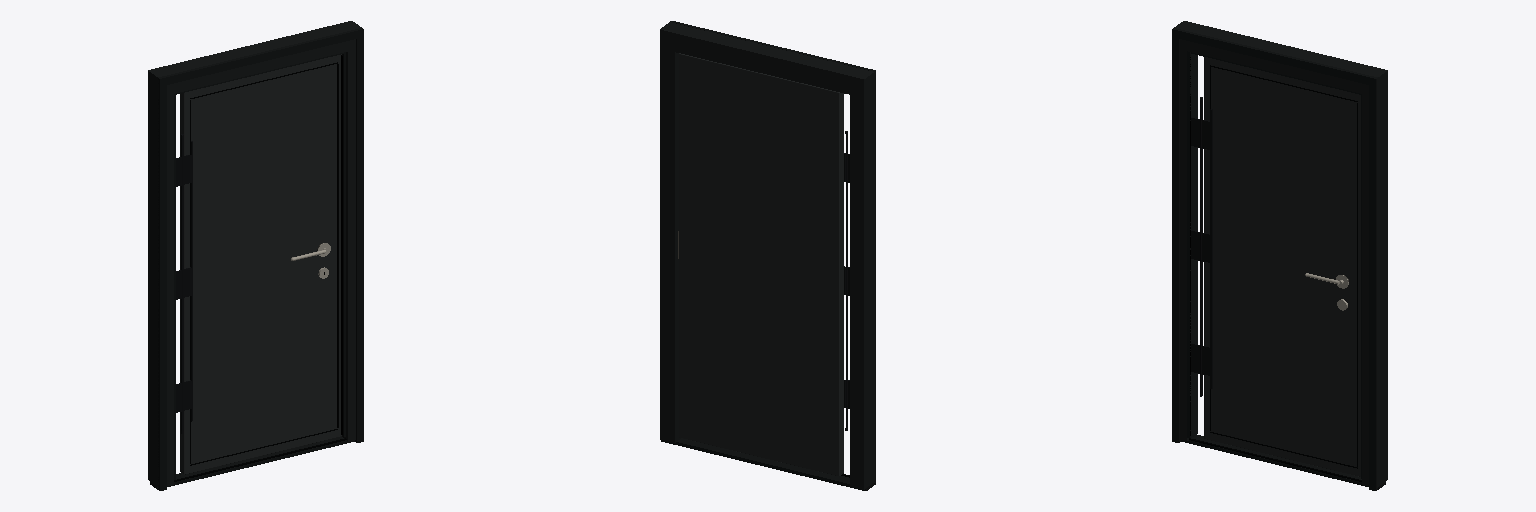
robot.urdf — single_leaf_dark_hinged_door:
<?xml version='1.0' encoding='utf-8'?>
<robot name="single_leaf_dark_hinged_door">
  <material name="matte_charcoal_slab">
    <color rgba="0.17 0.18 0.18 1" />
  </material>
  <material name="dark_charcoal_frame">
    <color rgba="0.12 0.13 0.13 1" />
  </material>
  <material name="slightly_satin_trim">
    <color rgba="0.1 0.11 0.11 1" />
  </material>
  <material name="perimeter_shadow_groove">
    <color rgba="0.035 0.038 0.04 1" />
  </material>
  <material name="dark_rubber_seal">
    <color rgba="0.012 0.012 0.012 1" />
  </material>
  <material name="dark_burnished_hinge_metal">
    <color rgba="0.09 0.095 0.1 1" />
  </material>
  <material name="brushed_stainless_soft_highlight">
    <color rgba="0.62 0.6 0.56 1" />
  </material>
  <material name="dark_brushed_stainless_shadow">
    <color rgba="0.28 0.27 0.25 1" />
  </material>
  <link name="fixed_frame">
    <visual name="left_jamb">
      <origin xyz="-0.105 0 1.1025" rpy="0 0 0" />
      <geometry>
        <box size="0.08 0.11 2.175" />
      </geometry>
      <material name="dark_charcoal_frame">
        <color rgba="0.12 0.13 0.13 1" />
      </material>
    </visual>
    <visual name="right_jamb">
      <origin xyz="0.948 0 1.1025" rpy="0 0 0" />
      <geometry>
        <box size="0.084 0.11 2.175" />
      </geometry>
      <material name="dark_charcoal_frame">
        <color rgba="0.12 0.13 0.13 1" />
      </material>
    </visual>
    <visual name="header">
      <origin xyz="0.4225 0 2.14" rpy="0 0 0" />
      <geometry>
        <box size="1.135 0.11 0.1" />
      </geometry>
      <material name="dark_charcoal_frame">
        <color rgba="0.12 0.13 0.13 1" />
      </material>
    </visual>
    <visual name="threshold">
      <origin xyz="0.4225 0 0.009" rpy="0 0 0" />
      <geometry>
        <box size="1.135 0.075 0.018" />
      </geometry>
      <material name="slightly_satin_trim">
        <color rgba="0.1 0.11 0.11 1" />
      </material>
    </visual>
    <visual name="left_casing">
      <origin xyz="-0.125 -0.052 1.095" rpy="0 0 0" />
      <geometry>
        <box size="0.04 0.018 2.19" />
      </geometry>
      <material name="slightly_satin_trim">
        <color rgba="0.1 0.11 0.11 1" />
      </material>
    </visual>
    <visual name="right_casing">
      <origin xyz="0.97 -0.052 1.095" rpy="0 0 0" />
      <geometry>
        <box size="0.04 0.018 2.19" />
      </geometry>
      <material name="slightly_satin_trim">
        <color rgba="0.1 0.11 0.11 1" />
      </material>
    </visual>
    <visual name="header_casing">
      <origin xyz="0.4225 -0.052 2.17" rpy="0 0 0" />
      <geometry>
        <box size="1.135 0.018 0.042" />
      </geometry>
      <material name="slightly_satin_trim">
        <color rgba="0.1 0.11 0.11 1" />
      </material>
    </visual>
    <visual name="right_stop">
      <origin xyz="0.899 -0.03 1.0625" rpy="0 0 0" />
      <geometry>
        <box size="0.018 0.012 2.055" />
      </geometry>
      <material name="slightly_satin_trim">
        <color rgba="0.1 0.11 0.11 1" />
      </material>
    </visual>
    <visual name="left_stop_shadow">
      <origin xyz="-0.058 -0.048 1.0625" rpy="0 0 0" />
      <geometry>
        <box size="0.014 0.008 2.055" />
      </geometry>
      <material name="slightly_satin_trim">
        <color rgba="0.1 0.11 0.11 1" />
      </material>
    </visual>
    <visual name="top_stop">
      <origin xyz="0.4205 -0.03 2.082" rpy="0 0 0" />
      <geometry>
        <box size="0.971 0.012 0.018" />
      </geometry>
      <material name="slightly_satin_trim">
        <color rgba="0.1 0.11 0.11 1" />
      </material>
    </visual>
    <visual name="right_seal">
      <origin xyz="0.888 -0.0248 1.0525" rpy="0 0 0" />
      <geometry>
        <box size="0.006 0.003 2.015" />
      </geometry>
      <material name="dark_rubber_seal">
        <color rgba="0.012 0.012 0.012 1" />
      </material>
    </visual>
    <visual name="left_seal">
      <origin xyz="-0.054 -0.0455 1.0525" rpy="0 0 0" />
      <geometry>
        <box size="0.006 0.003 2.015" />
      </geometry>
      <material name="dark_rubber_seal">
        <color rgba="0.012 0.012 0.012 1" />
      </material>
    </visual>
    <visual name="top_seal">
      <origin xyz="0.4205 -0.0248 2.0755" rpy="0 0 0" />
      <geometry>
        <box size="0.931 0.003 0.005" />
      </geometry>
      <material name="dark_rubber_seal">
        <color rgba="0.012 0.012 0.012 1" />
      </material>
    </visual>
    <visual name="sill_shadow_line">
      <origin xyz="0.4205 -0.032 0.021" rpy="0 0 0" />
      <geometry>
        <box size="0.971 0.01 0.006" />
      </geometry>
      <material name="perimeter_shadow_groove">
        <color rgba="0.035 0.038 0.04 1" />
      </material>
    </visual>
    <collision name="left_jamb">
      <origin xyz="-0.105 0 1.1025" rpy="0 0 0" />
      <geometry>
        <box size="0.08 0.11 2.175" />
      </geometry>
    </collision>
    <collision name="right_jamb">
      <origin xyz="0.948 0 1.1025" rpy="0 0 0" />
      <geometry>
        <box size="0.084 0.11 2.175" />
      </geometry>
    </collision>
    <collision name="header">
      <origin xyz="0.4225 0 2.14" rpy="0 0 0" />
      <geometry>
        <box size="1.135 0.11 0.1" />
      </geometry>
    </collision>
    <collision name="threshold">
      <origin xyz="0.4225 0 0.009" rpy="0 0 0" />
      <geometry>
        <box size="1.135 0.075 0.018" />
      </geometry>
    </collision>
    <collision name="left_casing">
      <origin xyz="-0.125 -0.052 1.095" rpy="0 0 0" />
      <geometry>
        <box size="0.04 0.018 2.19" />
      </geometry>
    </collision>
    <collision name="right_casing">
      <origin xyz="0.97 -0.052 1.095" rpy="0 0 0" />
      <geometry>
        <box size="0.04 0.018 2.19" />
      </geometry>
    </collision>
    <collision name="header_casing">
      <origin xyz="0.4225 -0.052 2.17" rpy="0 0 0" />
      <geometry>
        <box size="1.135 0.018 0.042" />
      </geometry>
    </collision>
    <collision name="right_stop">
      <origin xyz="0.899 -0.03 1.0625" rpy="0 0 0" />
      <geometry>
        <box size="0.018 0.012 2.055" />
      </geometry>
    </collision>
    <collision name="left_stop_shadow">
      <origin xyz="-0.058 -0.048 1.0625" rpy="0 0 0" />
      <geometry>
        <box size="0.014 0.008 2.055" />
      </geometry>
    </collision>
    <collision name="top_stop">
      <origin xyz="0.4205 -0.03 2.082" rpy="0 0 0" />
      <geometry>
        <box size="0.971 0.012 0.018" />
      </geometry>
    </collision>
    <collision name="right_seal">
      <origin xyz="0.888 -0.0248 1.0525" rpy="0 0 0" />
      <geometry>
        <box size="0.006 0.003 2.015" />
      </geometry>
    </collision>
    <collision name="left_seal">
      <origin xyz="-0.054 -0.0455 1.0525" rpy="0 0 0" />
      <geometry>
        <box size="0.006 0.003 2.015" />
      </geometry>
    </collision>
    <collision name="top_seal">
      <origin xyz="0.4205 -0.0248 2.0755" rpy="0 0 0" />
      <geometry>
        <box size="0.931 0.003 0.005" />
      </geometry>
    </collision>
    <collision name="sill_shadow_line">
      <origin xyz="0.4205 -0.032 0.021" rpy="0 0 0" />
      <geometry>
        <box size="0.971 0.01 0.006" />
      </geometry>
    </collision>
  </link>
  <link name="door_panel">
    <visual name="door_slab">
      <geometry>
        <mesh filename="assets/meshes/door_panel_beveled_slab.obj" />
      </geometry>
      <material name="matte_charcoal_slab">
        <color rgba="0.17 0.18 0.18 1" />
      </material>
    </visual>
    <visual name="perimeter_groove_left">
      <origin xyz="0.047 0.0049 1.0525" rpy="0 0 0" />
      <geometry>
        <box size="0.006 0.0012 1.93" />
      </geometry>
      <material name="perimeter_shadow_groove">
        <color rgba="0.035 0.038 0.04 1" />
      </material>
    </visual>
    <visual name="perimeter_groove_right">
      <origin xyz="0.867 0.0049 1.0525" rpy="0 0 0" />
      <geometry>
        <box size="0.006 0.0012 1.93" />
      </geometry>
      <material name="perimeter_shadow_groove">
        <color rgba="0.035 0.038 0.04 1" />
      </material>
    </visual>
    <visual name="perimeter_groove_top">
      <origin xyz="0.457 0.0049 2.025" rpy="0 0 0" />
      <geometry>
        <box size="0.82 0.0012 0.006" />
      </geometry>
      <material name="perimeter_shadow_groove">
        <color rgba="0.035 0.038 0.04 1" />
      </material>
    </visual>
    <visual name="perimeter_groove_bottom">
      <origin xyz="0.457 0.0049 0.08" rpy="0 0 0" />
      <geometry>
        <box size="0.82 0.0012 0.006" />
      </geometry>
      <material name="perimeter_shadow_groove">
        <color rgba="0.035 0.038 0.04 1" />
      </material>
    </visual>
    <collision name="door_slab">
      <geometry>
        <mesh filename="assets/meshes/door_panel_beveled_slab.obj" />
      </geometry>
    </collision>
    <collision name="perimeter_groove_left">
      <origin xyz="0.047 0.0049 1.0525" rpy="0 0 0" />
      <geometry>
        <box size="0.006 0.0012 1.93" />
      </geometry>
    </collision>
    <collision name="perimeter_groove_right">
      <origin xyz="0.867 0.0049 1.0525" rpy="0 0 0" />
      <geometry>
        <box size="0.006 0.0012 1.93" />
      </geometry>
    </collision>
    <collision name="perimeter_groove_top">
      <origin xyz="0.457 0.0049 2.025" rpy="0 0 0" />
      <geometry>
        <box size="0.82 0.0012 0.006" />
      </geometry>
    </collision>
    <collision name="perimeter_groove_bottom">
      <origin xyz="0.457 0.0049 0.08" rpy="0 0 0" />
      <geometry>
        <box size="0.82 0.0012 0.006" />
      </geometry>
    </collision>
  </link>
  <link name="hinge_leaf_frame">
    <visual name="frame_leaf_spine">
      <origin xyz="-0.0625 -0.028 1.055" rpy="0 0 0" />
      <geometry>
        <box size="0.005 0.006 1.485" />
      </geometry>
      <material name="dark_burnished_hinge_metal">
        <color rgba="0.09 0.095 0.1 1" />
      </material>
    </visual>
    <visual name="frame_leaf_0">
      <origin xyz="-0.0355 -0.028 0.455" rpy="0 0 0" />
      <geometry>
        <box size="0.059 0.006 0.15" />
      </geometry>
      <material name="dark_burnished_hinge_metal">
        <color rgba="0.09 0.095 0.1 1" />
      </material>
    </visual>
    <visual name="frame_leaf_1">
      <origin xyz="-0.0355 -0.028 1.055" rpy="0 0 0" />
      <geometry>
        <box size="0.059 0.006 0.15" />
      </geometry>
      <material name="dark_burnished_hinge_metal">
        <color rgba="0.09 0.095 0.1 1" />
      </material>
    </visual>
    <visual name="frame_leaf_2">
      <origin xyz="-0.0355 -0.028 1.655" rpy="0 0 0" />
      <geometry>
        <box size="0.059 0.006 0.15" />
      </geometry>
      <material name="dark_burnished_hinge_metal">
        <color rgba="0.09 0.095 0.1 1" />
      </material>
    </visual>
    <collision name="frame_leaf_spine">
      <origin xyz="-0.0625 -0.028 1.055" rpy="0 0 0" />
      <geometry>
        <box size="0.005 0.006 1.485" />
      </geometry>
    </collision>
    <collision name="frame_leaf_0">
      <origin xyz="-0.0355 -0.028 0.455" rpy="0 0 0" />
      <geometry>
        <box size="0.059 0.006 0.15" />
      </geometry>
    </collision>
    <collision name="frame_leaf_1">
      <origin xyz="-0.0355 -0.028 1.055" rpy="0 0 0" />
      <geometry>
        <box size="0.059 0.006 0.15" />
      </geometry>
    </collision>
    <collision name="frame_leaf_2">
      <origin xyz="-0.0355 -0.028 1.655" rpy="0 0 0" />
      <geometry>
        <box size="0.059 0.006 0.15" />
      </geometry>
    </collision>
  </link>
  <link name="hinge_leaf_panel">
    <visual name="panel_leaf_spine">
      <origin xyz="0.055 0.00275 1.055" rpy="0 0 0" />
      <geometry>
        <box size="0.01 0.0055 1.485" />
      </geometry>
      <material name="dark_burnished_hinge_metal">
        <color rgba="0.09 0.095 0.1 1" />
      </material>
    </visual>
    <visual name="panel_leaf_0">
      <origin xyz="0.033 0.00275 0.455" rpy="0 0 0" />
      <geometry>
        <box size="0.054 0.0055 0.15" />
      </geometry>
      <material name="dark_burnished_hinge_metal">
        <color rgba="0.09 0.095 0.1 1" />
      </material>
    </visual>
    <visual name="panel_leaf_1">
      <origin xyz="0.033 0.00275 1.055" rpy="0 0 0" />
      <geometry>
        <box size="0.054 0.0055 0.15" />
      </geometry>
      <material name="dark_burnished_hinge_metal">
        <color rgba="0.09 0.095 0.1 1" />
      </material>
    </visual>
    <visual name="panel_leaf_2">
      <origin xyz="0.033 0.00275 1.655" rpy="0 0 0" />
      <geometry>
        <box size="0.054 0.0055 0.15" />
      </geometry>
      <material name="dark_burnished_hinge_metal">
        <color rgba="0.09 0.095 0.1 1" />
      </material>
    </visual>
    <collision name="panel_leaf_spine">
      <origin xyz="0.055 0.00275 1.055" rpy="0 0 0" />
      <geometry>
        <box size="0.01 0.0055 1.485" />
      </geometry>
    </collision>
    <collision name="panel_leaf_0">
      <origin xyz="0.033 0.00275 0.455" rpy="0 0 0" />
      <geometry>
        <box size="0.054 0.0055 0.15" />
      </geometry>
    </collision>
    <collision name="panel_leaf_1">
      <origin xyz="0.033 0.00275 1.055" rpy="0 0 0" />
      <geometry>
        <box size="0.054 0.0055 0.15" />
      </geometry>
    </collision>
    <collision name="panel_leaf_2">
      <origin xyz="0.033 0.00275 1.655" rpy="0 0 0" />
      <geometry>
        <box size="0.054 0.0055 0.15" />
      </geometry>
    </collision>
  </link>
  <link name="hinge_pin">
    <visual name="hinge_pin_rod">
      <origin xyz="0 -0.028 1.055" rpy="0 0 0" />
      <geometry>
        <cylinder radius="0.006" length="1.57" />
      </geometry>
      <material name="dark_burnished_hinge_metal">
        <color rgba="0.09 0.095 0.1 1" />
      </material>
    </visual>
    <visual name="hinge_pin_lower_cap">
      <origin xyz="0 -0.028 0.27" rpy="0 0 0" />
      <geometry>
        <cylinder radius="0.0075" length="0.014" />
      </geometry>
      <material name="dark_burnished_hinge_metal">
        <color rgba="0.09 0.095 0.1 1" />
      </material>
    </visual>
    <visual name="hinge_pin_upper_cap">
      <origin xyz="0 -0.028 1.84" rpy="0 0 0" />
      <geometry>
        <cylinder radius="0.0075" length="0.014" />
      </geometry>
      <material name="dark_burnished_hinge_metal">
        <color rgba="0.09 0.095 0.1 1" />
      </material>
    </visual>
    <collision name="hinge_pin_rod">
      <origin xyz="0 -0.028 1.055" rpy="0 0 0" />
      <geometry>
        <cylinder radius="0.006" length="1.57" />
      </geometry>
    </collision>
    <collision name="hinge_pin_lower_cap">
      <origin xyz="0 -0.028 0.27" rpy="0 0 0" />
      <geometry>
        <cylinder radius="0.0075" length="0.014" />
      </geometry>
    </collision>
    <collision name="hinge_pin_upper_cap">
      <origin xyz="0 -0.028 1.84" rpy="0 0 0" />
      <geometry>
        <cylinder radius="0.0075" length="0.014" />
      </geometry>
    </collision>
  </link>
  <link name="handle_back_plate">
    <visual name="rosette_disk">
      <origin xyz="0 0.0005 0" rpy="1.5708 0 0" />
      <geometry>
        <cylinder radius="0.033" length="0.01" />
      </geometry>
      <material name="dark_brushed_stainless_shadow">
        <color rgba="0.28 0.27 0.25 1" />
      </material>
    </visual>
    <visual name="rosette_outer_lip">
      <origin xyz="0 -0.0055 0" rpy="1.5708 0 0" />
      <geometry>
        <cylinder radius="0.036" length="0.002" />
      </geometry>
      <material name="brushed_stainless_soft_highlight">
        <color rgba="0.62 0.6 0.56 1" />
      </material>
    </visual>
    <collision name="rosette_disk">
      <origin xyz="0 0.0005 0" rpy="1.5708 0 0" />
      <geometry>
        <cylinder radius="0.033" length="0.01" />
      </geometry>
    </collision>
    <collision name="rosette_outer_lip">
      <origin xyz="0 -0.0055 0" rpy="1.5708 0 0" />
      <geometry>
        <cylinder radius="0.036" length="0.002" />
      </geometry>
    </collision>
  </link>
  <link name="lever_handle">
    <visual name="lever_spindle_boss">
      <origin xyz="0 0 0.008" rpy="3.67320510335e-06 -0 7.85640178104e-07" />
      <geometry>
        <cylinder radius="0.01" length="0.016" />
      </geometry>
      <material name="brushed_stainless_soft_highlight">
        <color rgba="0.62 0.6 0.56 1" />
      </material>
    </visual>
    <visual name="lever_bar">
      <origin xyz="-0.095 -7.46358169198e-08 0.018" rpy="-1.57079632679 -0 -1.57079921436" />
      <geometry>
        <cylinder radius="0.009" length="0.18" />
      </geometry>
      <material name="brushed_stainless_soft_highlight">
        <color rgba="0.62 0.6 0.56 1" />
      </material>
    </visual>
    <visual name="lever_rounded_tip">
      <origin xyz="-0.185 -1.45343432949e-07 0.018" rpy="-1.57079632679 -0 7.85640178104e-07" />
      <geometry>
        <sphere radius="0.0095" />
      </geometry>
      <material name="brushed_stainless_soft_highlight">
        <color rgba="0.62 0.6 0.56 1" />
      </material>
    </visual>
    <collision name="lever_spindle_boss">
      <origin xyz="0 0 0.008" rpy="3.67320510335e-06 -0 7.85640178104e-07" />
      <geometry>
        <cylinder radius="0.01" length="0.016" />
      </geometry>
    </collision>
    <collision name="lever_bar">
      <origin xyz="-0.095 -7.46358169198e-08 0.018" rpy="-1.57079632679 -0 -1.57079921436" />
      <geometry>
        <cylinder radius="0.009" length="0.18" />
      </geometry>
    </collision>
    <collision name="lever_rounded_tip">
      <origin xyz="-0.185 -1.45343432949e-07 0.018" rpy="-1.57079632679 -0 7.85640178104e-07" />
      <geometry>
        <sphere radius="0.0095" />
      </geometry>
    </collision>
  </link>
  <link name="lock_cylinder">
    <visual name="lock_cylinder_face">
      <origin xyz="0 -0.0005 0" rpy="1.5708 0 0" />
      <geometry>
        <cylinder radius="0.027" length="0.012" />
      </geometry>
      <material name="brushed_stainless_soft_highlight">
        <color rgba="0.62 0.6 0.56 1" />
      </material>
    </visual>
    <visual name="key_slot">
      <origin xyz="0 -0.006 0" rpy="0 0 0" />
      <geometry>
        <box size="0.004 0.0014 0.02" />
      </geometry>
      <material name="perimeter_shadow_groove">
        <color rgba="0.035 0.038 0.04 1" />
      </material>
    </visual>
    <collision name="lock_cylinder_face">
      <origin xyz="0 -0.0005 0" rpy="1.5708 0 0" />
      <geometry>
        <cylinder radius="0.027" length="0.012" />
      </geometry>
    </collision>
    <collision name="key_slot">
      <origin xyz="0 -0.006 0" rpy="0 0 0" />
      <geometry>
        <box size="0.004 0.0014 0.02" />
      </geometry>
    </collision>
  </link>
  <link name="strike_plate">
    <visual name="strike_plate">
      <geometry>
        <box size="0.003 0.04 0.15" />
      </geometry>
      <material name="dark_brushed_stainless_shadow">
        <color rgba="0.28 0.27 0.25 1" />
      </material>
    </visual>
    <visual name="latch_pocket_shadow">
      <origin xyz="-0.0016 0 0" rpy="0 0 0" />
      <geometry>
        <box size="0.001 0.024 0.05" />
      </geometry>
      <material name="perimeter_shadow_groove">
        <color rgba="0.035 0.038 0.04 1" />
      </material>
    </visual>
    <collision name="strike_plate">
      <geometry>
        <box size="0.003 0.04 0.15" />
      </geometry>
    </collision>
    <collision name="latch_pocket_shadow">
      <origin xyz="-0.0016 0 0" rpy="0 0 0" />
      <geometry>
        <box size="0.001 0.024 0.05" />
      </geometry>
    </collision>
  </link>
  <joint name="door_hinge_joint" type="revolute">
    <origin xyz="0 -0.028 0" rpy="0 0 0" />
    <parent link="fixed_frame" />
    <child link="door_panel" />
    <axis xyz="0 0 1" />
    <limit effort="80" velocity="1.2" lower="0" upper="1.8326" />
  </joint>
  <joint name="frame_leaf_mount" type="fixed">
    <parent link="fixed_frame" />
    <child link="hinge_leaf_frame" />
  </joint>
  <joint name="hinge_pin_mount" type="fixed">
    <parent link="fixed_frame" />
    <child link="hinge_pin" />
  </joint>
  <joint name="panel_leaf_mount" type="fixed">
    <parent link="door_panel" />
    <child link="hinge_leaf_panel" />
  </joint>
  <joint name="back_plate_mount" type="fixed">
    <origin xyz="0.785 0 1.055" rpy="0 0 0" />
    <parent link="door_panel" />
    <child link="handle_back_plate" />
  </joint>
  <joint name="handle_spindle_joint" type="revolute">
    <origin xyz="0.785 -0.0045 1.055" rpy="1.57079632679 7.85640178104e-07 0" />
    <parent link="door_panel" />
    <child link="lever_handle" />
    <axis xyz="0 0 1" />
    <limit effort="2" velocity="4" lower="0" upper="0.523599" />
  </joint>
  <joint name="lock_cylinder_mount" type="fixed">
    <origin xyz="0.785 0 0.93" rpy="0 0 0" />
    <parent link="door_panel" />
    <child link="lock_cylinder" />
  </joint>
  <joint name="strike_plate_mount" type="fixed">
    <origin xyz="0.9045 0.005 1.055" rpy="0 0 0" />
    <parent link="fixed_frame" />
    <child link="strike_plate" />
  </joint>
</robot>

--- Facts derived from the render (not from the file) ---
The picture shows the robot from 3 angles, left to right: view 1: azimuth 30°, elevation 25°; view 2: azimuth 150°, elevation 25°; view 3: azimuth 330°, elevation 25°; orthographic projection.
Model single_leaf_dark_hinged_door with 9 links and 8 joints (2 revolute, 6 fixed), rooted at fixed_frame, posed every joint at zero.
Links seen in each view (by area): view 1: door_panel, fixed_frame, hinge_leaf_panel, hinge_pin; view 2: door_panel, fixed_frame, hinge_pin; view 3: door_panel, fixed_frame, hinge_leaf_panel, hinge_pin, hinge_leaf_frame.
Boxes of the visible links, <box> form: door_panel: <box>180,54,341,474</box>; fixed_frame: <box>148,21,363,490</box>; hinge_leaf_panel: <box>184,141,192,421</box>; hinge_pin: <box>181,134,183,433</box>; door_panel: <box>679,53,843,475</box>; fixed_frame: <box>660,21,875,490</box>; hinge_pin: <box>845,131,847,430</box>; door_panel: <box>1204,57,1360,476</box>; fixed_frame: <box>1172,21,1387,490</box>; hinge_leaf_panel: <box>1202,109,1212,388</box>; hinge_pin: <box>1200,97,1202,396</box>; hinge_leaf_frame: <box>1191,117,1199,373</box>.
Bounding box of the posed robot: 1.14 × 0.116 × 2.19 m (x, y, z).
1 mesh visuals loaded from 1 distinct referenced files (1 OBJ).
